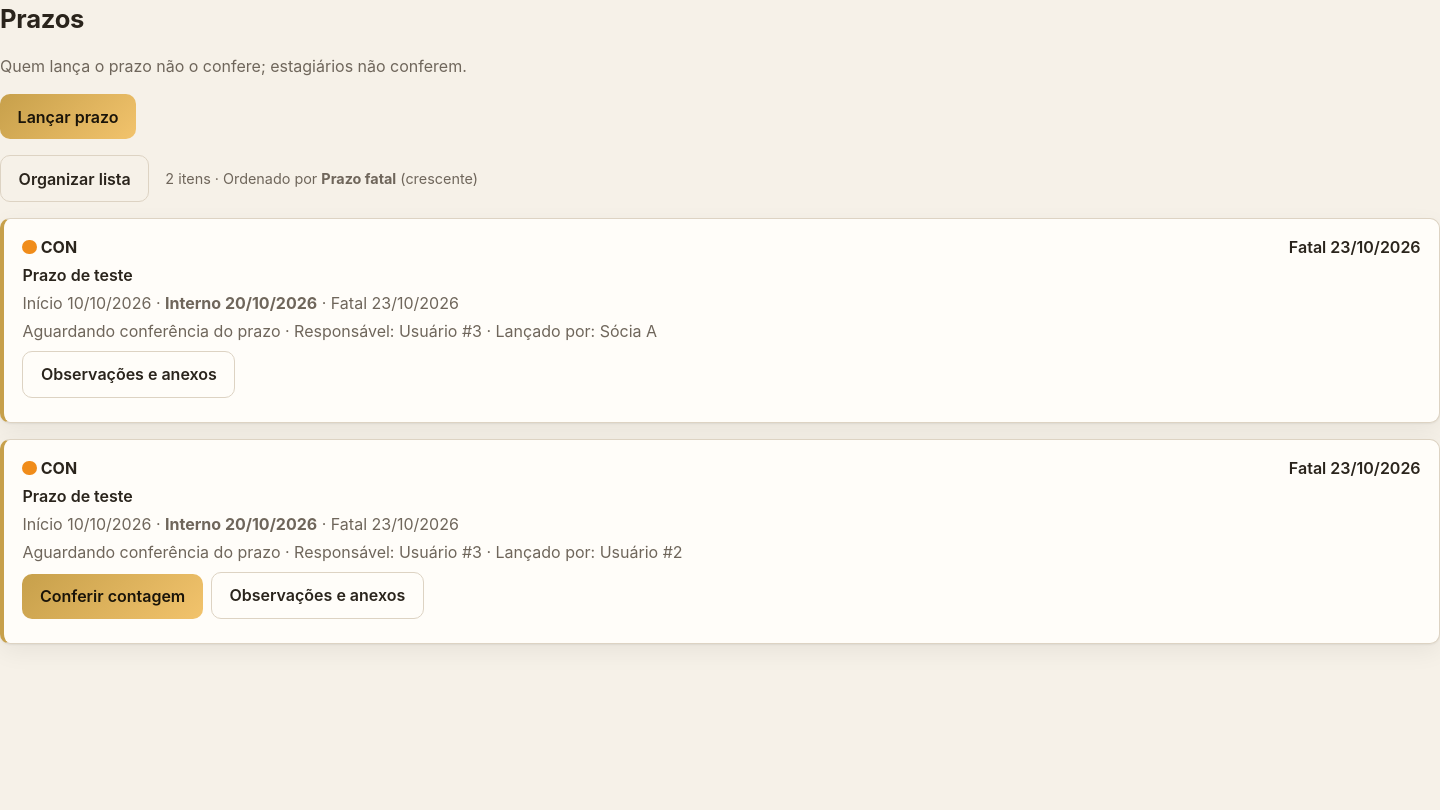
Test: PrazosView (dupla conferencia) › lanca prazo e mostra o interno calculado pelo servidor
The width and height of the screenshot is (1440, 810).
Click the button "Lançar prazo" at (68, 117), box [0,94,136,139]
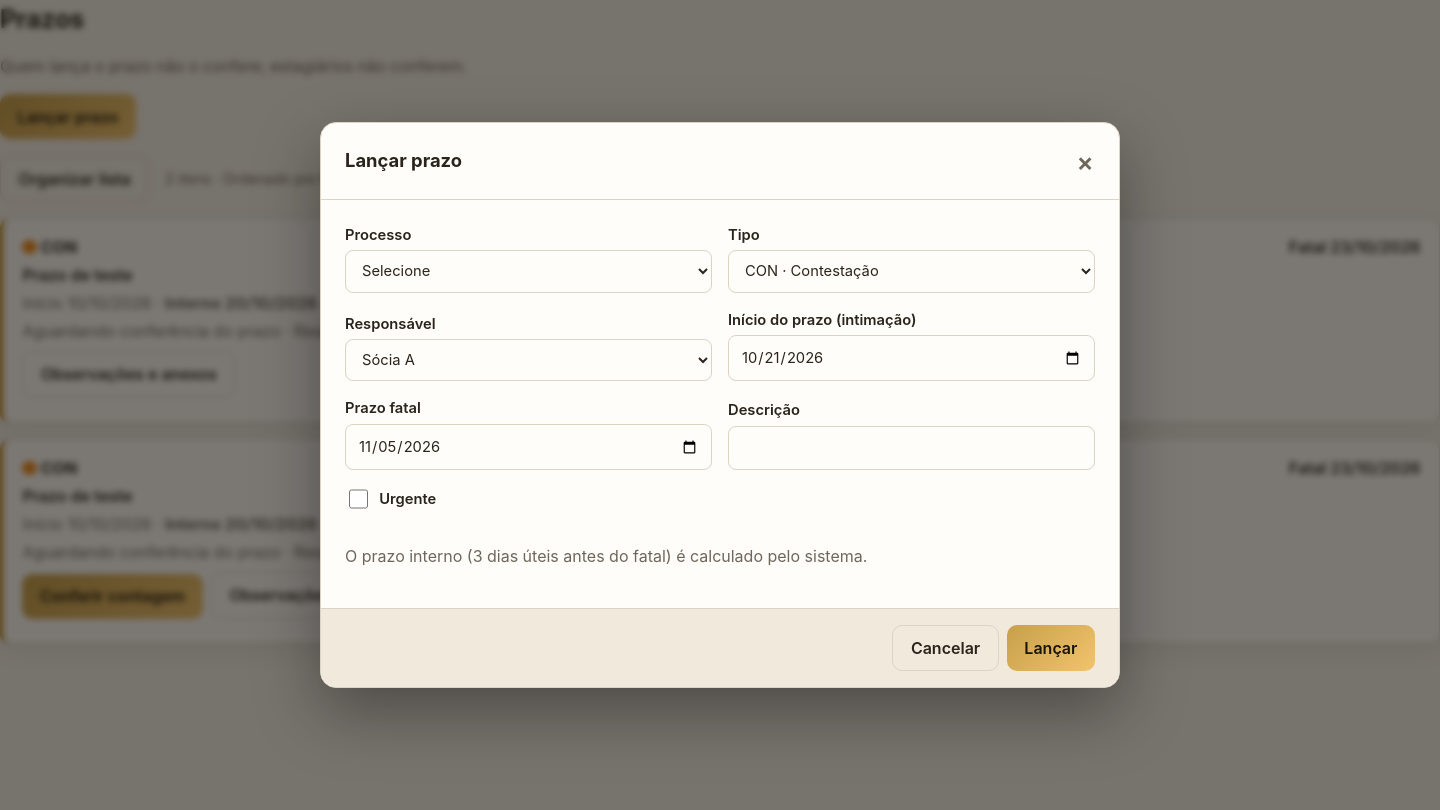
Select "0000001-31.2025.8.07.0001 · Cliente" in the dropdown labelled "Processo" at (528, 271), box [345,250,712,292]
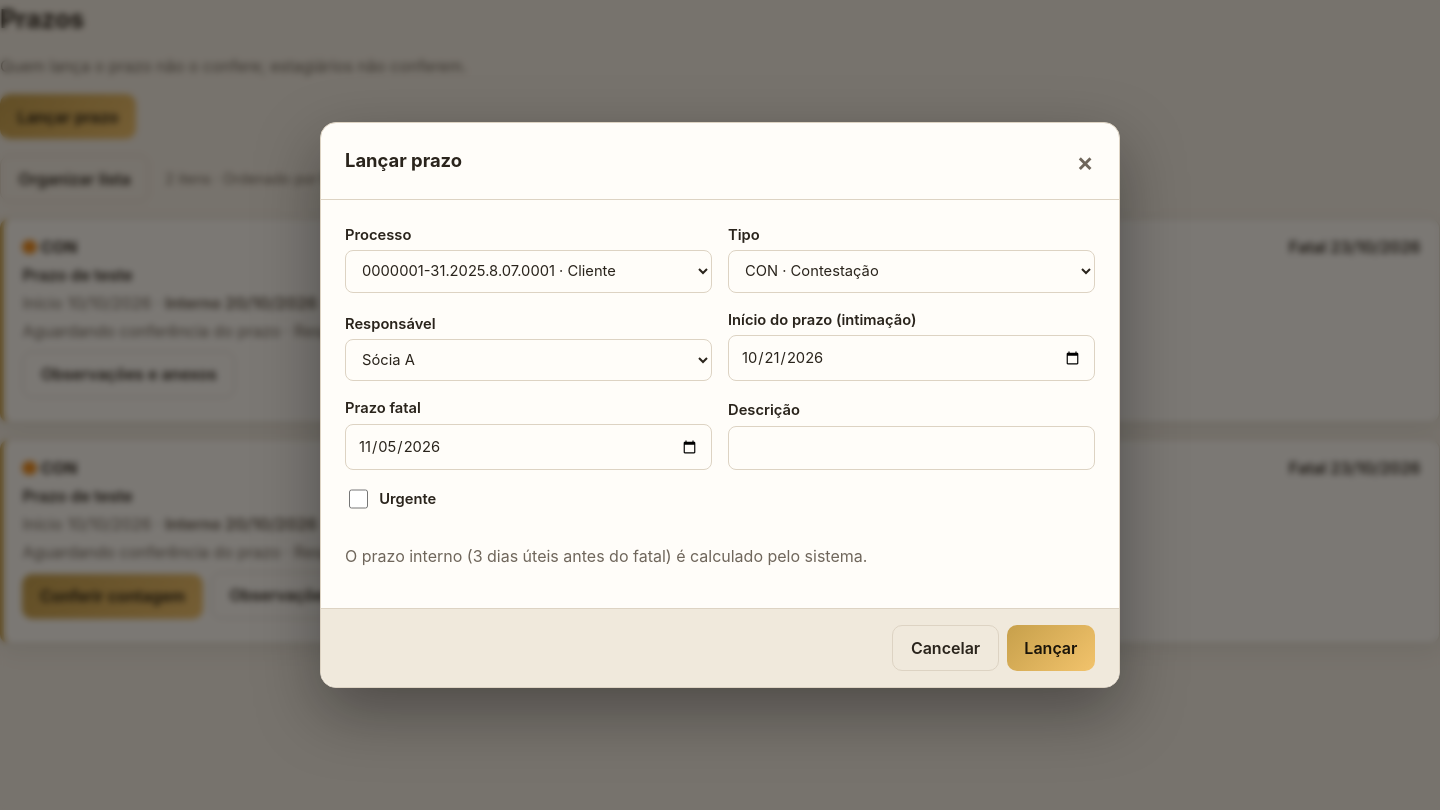
Submit the form, box [345,224,1095,584]
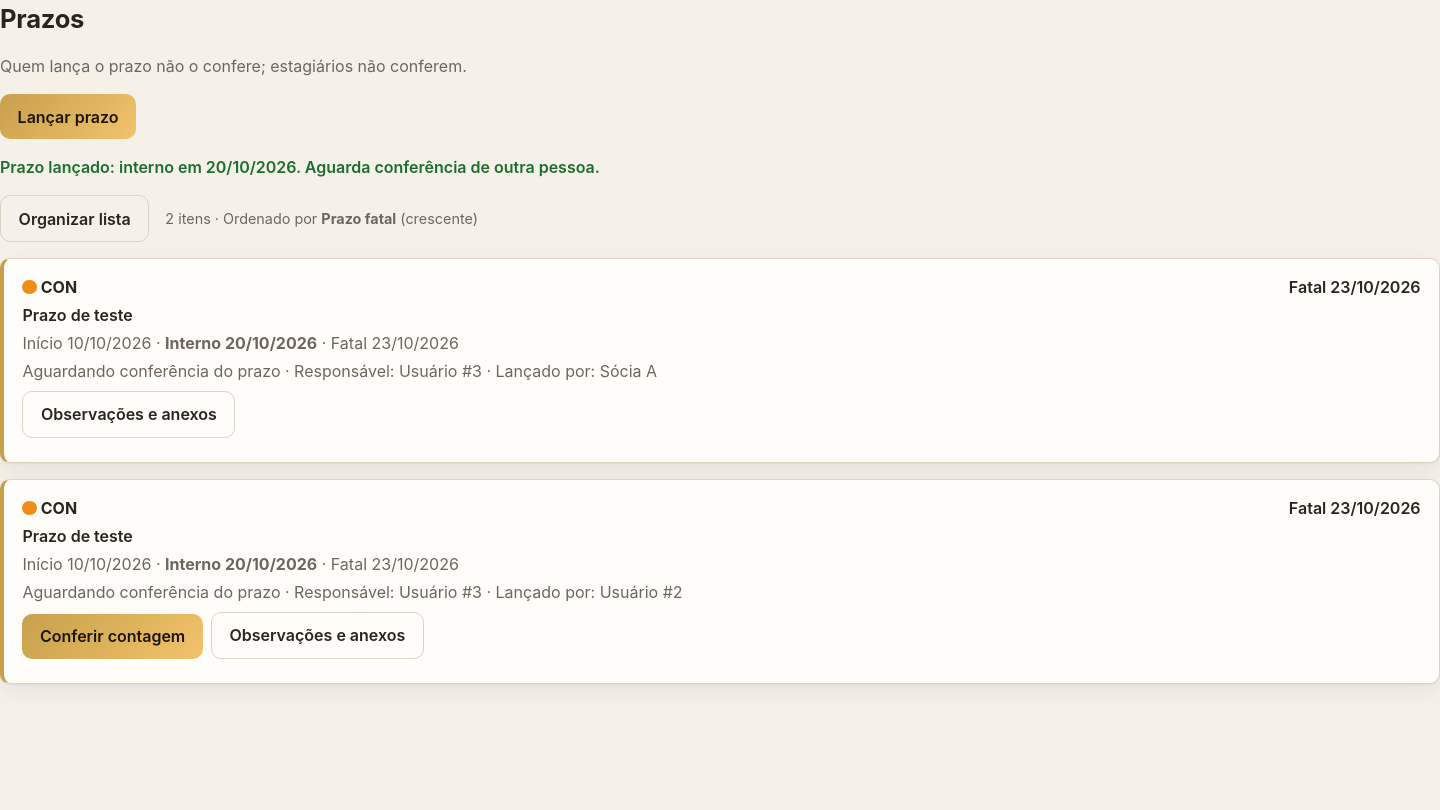
Expected: the message "Prazo lançado: interno em 20/10/2026. Aguarda conferência de outra pessoa." is shown, [0,157,600,177]
